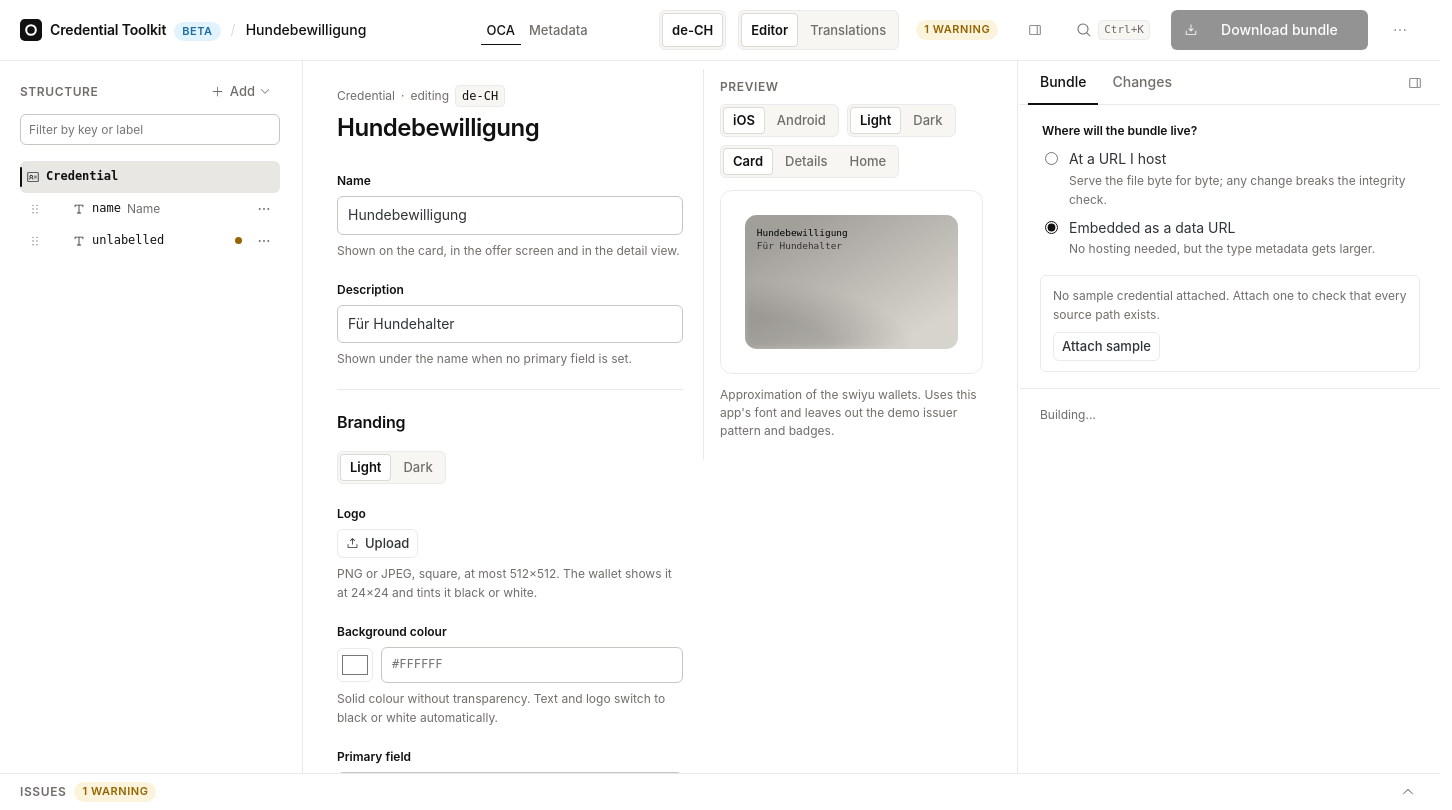
it: IssuesPanel › keeps the toggle of the user while the project is edited
Step 1. Click the button named "Expand issues" → [1408, 792], box 1396,780 -> 1420,804
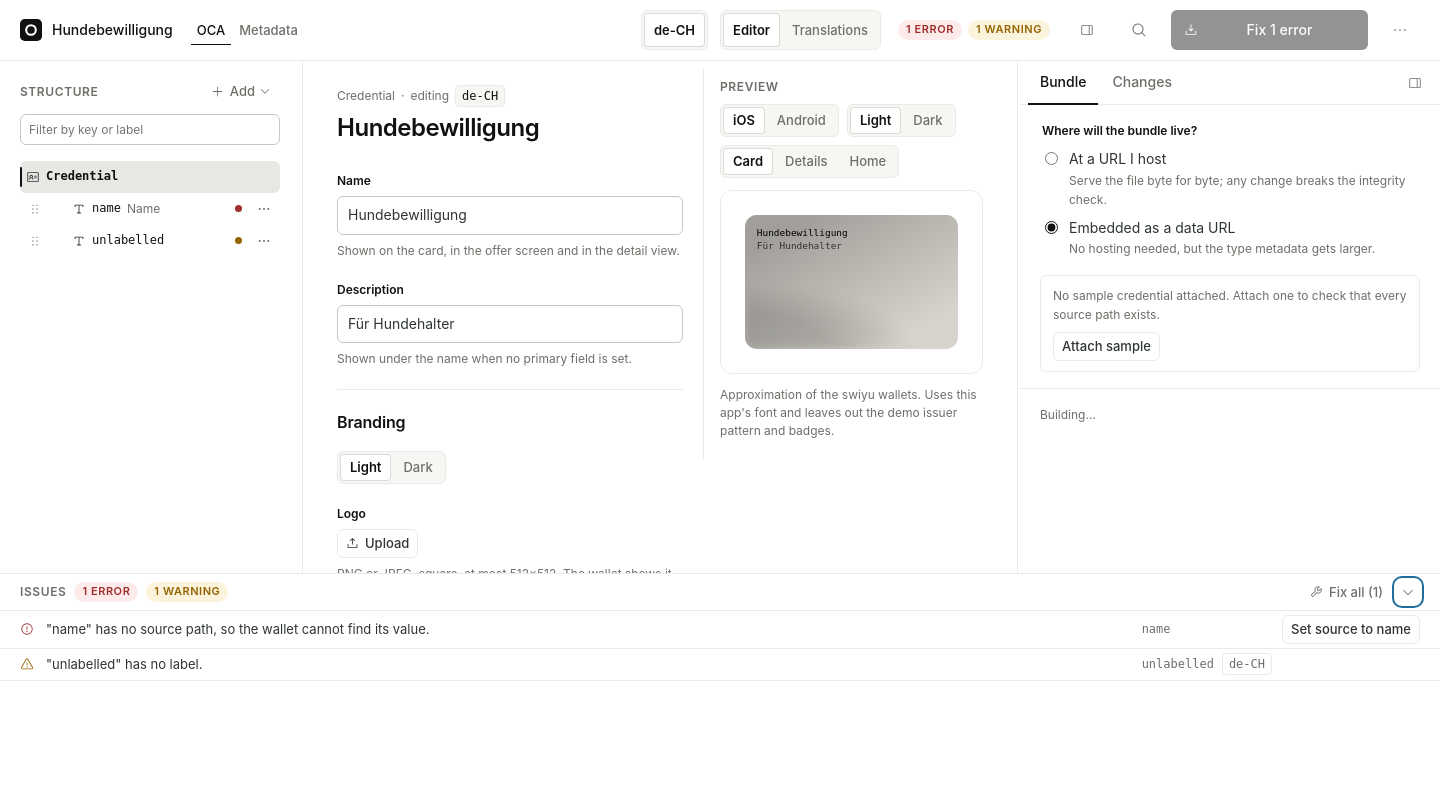
Result: the text "1 error" next to "Issues" is shown at 82,584 -> 130,598
Step 2. Click the button named "Collapse issues" → [1408, 592], box 1396,580 -> 1420,604
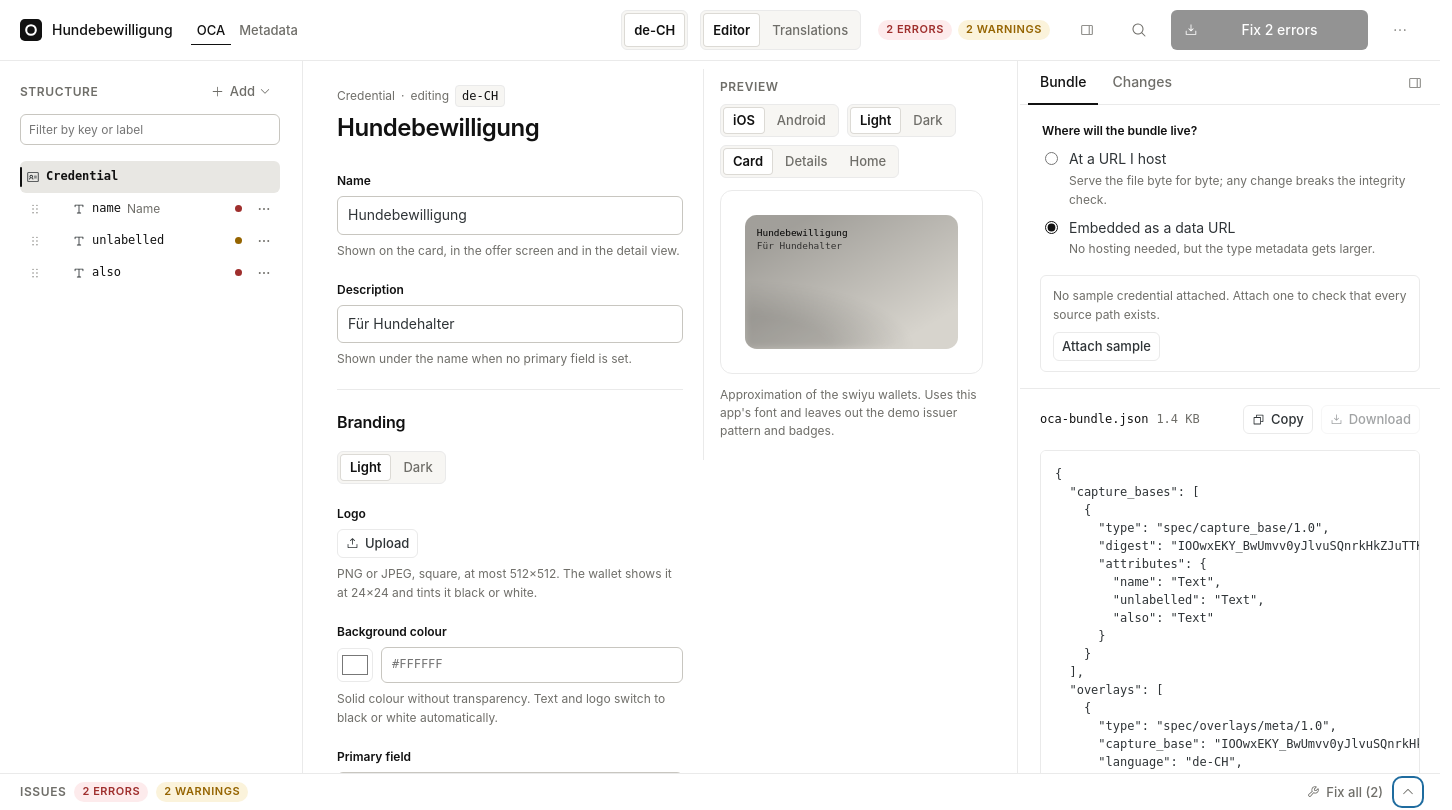
Result: the text "2 errors" next to "Issues" is shown at 82,784 -> 140,798
